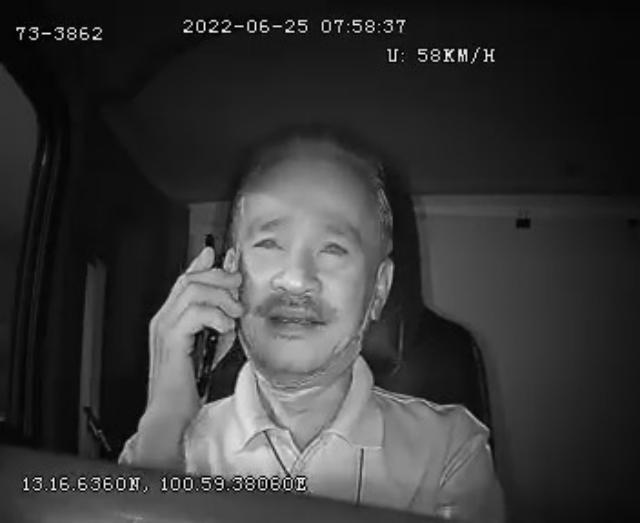PhoneUse: (188, 232, 222, 406)
SafeDriving: (311, 228, 356, 268), (247, 222, 290, 260)
